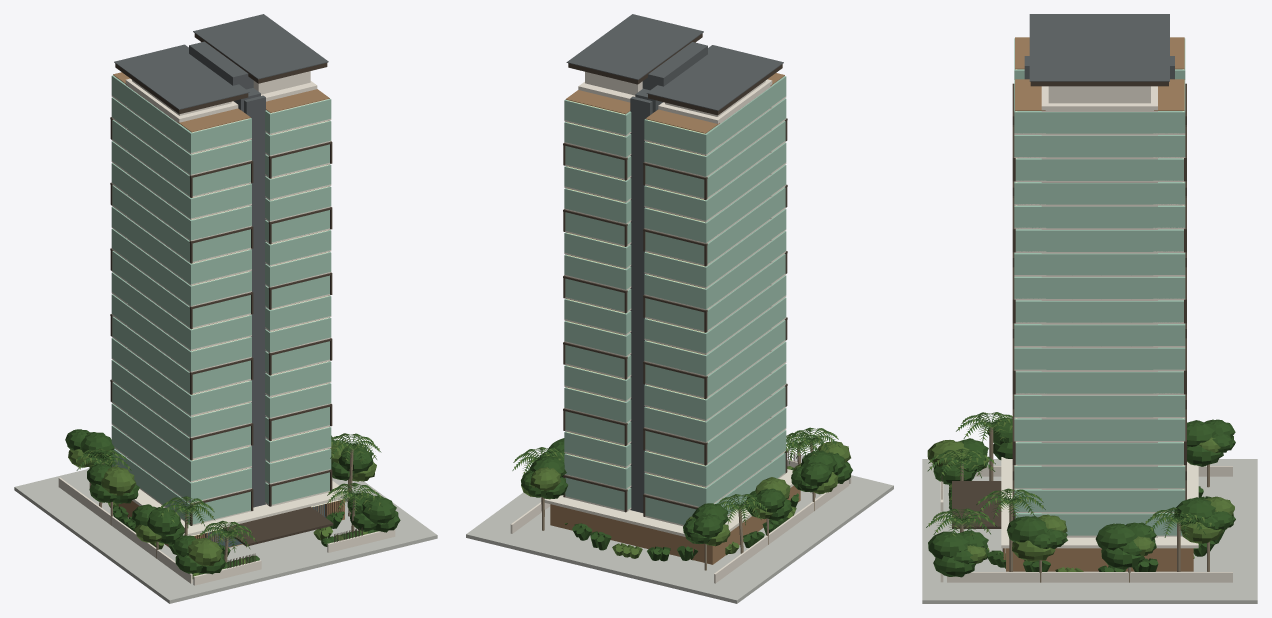
The model's file is xixova-building.glb.
3 views of the same model, side by side, from view 1: azimuth 30°, elevation 25°; view 2: azimuth 150°, elevation 25°; view 3: azimuth 270°, elevation 25° (orthographic). The views are drawn at different scales.
Visible parts, largest first — view 1: PODIUM_ground, ROOFTOP_graphite, LANDSCAPE_leaf, FACADE_SHARED_graphite, FACADE_SHARED_slab, LANDSCAPE_leaf_light, FACADE_SHARED_bronze, FACADE_SHARED_ivory, ENTRANCE_ivory, ENTRANCE_bronze, UNIT_1403_PROXY, UNIT_603_PROXY (+59 smaller); view 2: PODIUM_ground, ROOFTOP_graphite, LANDSCAPE_leaf, FACADE_SHARED_graphite, FACADE_SHARED_slab, FACADE_SHARED_bronze, PODIUM_wood, LANDSCAPE_leaf_light, FACADE_SHARED_ivory, FACADE_SHARED_wood, UNIT_1701_PROXY, UNIT_601_PROXY (+58 smaller); view 3: PODIUM_ground, LANDSCAPE_leaf, ROOFTOP_graphite, FACADE_SHARED_ivory, LANDSCAPE_leaf_light, ENTRANCE_ivory, FACADE_SHARED_wood, PODIUM_wood, FACADE_SHARED_bronze, FACADE_SHARED_slab, UNIT_302_PROXY, PODIUM_slab (+40 smaller).
Part boxes in pixels (bbox=[...]): PODIUM_ground: bbox=[14, 469, 437, 603]; ROOFTOP_graphite: bbox=[114, 14, 328, 109]; LANDSCAPE_leaf: bbox=[65, 429, 400, 574]; FACADE_SHARED_graphite: bbox=[233, 88, 265, 507]; FACADE_SHARED_slab: bbox=[111, 95, 331, 525]; LANDSCAPE_leaf_light: bbox=[68, 433, 381, 578]; FACADE_SHARED_bronze: bbox=[110, 117, 332, 525]; FACADE_SHARED_ivory: bbox=[125, 78, 317, 507]; ENTRANCE_ivory: bbox=[58, 477, 395, 585]; ENTRANCE_bronze: bbox=[205, 503, 362, 568]; UNIT_1403_PROXY: bbox=[149, 191, 251, 240]; UNIT_603_PROXY: bbox=[149, 365, 251, 415]; PODIUM_ground: bbox=[466, 475, 893, 603]; ROOFTOP_graphite: bbox=[566, 14, 783, 110]; LANDSCAPE_leaf: bbox=[512, 427, 852, 561]; FACADE_SHARED_graphite: bbox=[630, 88, 662, 512]; FACADE_SHARED_slab: bbox=[564, 96, 786, 526]; FACADE_SHARED_bronze: bbox=[563, 118, 787, 516]; PODIUM_wood: bbox=[550, 485, 800, 564]; LANDSCAPE_leaf_light: bbox=[514, 428, 850, 558]; FACADE_SHARED_ivory: bbox=[578, 79, 772, 516]; FACADE_SHARED_wood: bbox=[565, 73, 784, 487]; UNIT_1701_PROXY: bbox=[644, 126, 747, 176]; UNIT_601_PROXY: bbox=[644, 369, 747, 419]; PODIUM_ground: bbox=[922, 459, 1257, 603]; LANDSCAPE_leaf: bbox=[926, 412, 1235, 577]; ROOFTOP_graphite: bbox=[1029, 14, 1169, 81]; FACADE_SHARED_ivory: bbox=[1041, 86, 1157, 537]; LANDSCAPE_leaf_light: bbox=[927, 413, 1234, 571]; ENTRANCE_ivory: bbox=[940, 466, 1232, 582]; FACADE_SHARED_wood: bbox=[1015, 37, 1184, 110]; PODIUM_wood: bbox=[1006, 548, 1193, 571]; FACADE_SHARED_bronze: bbox=[1012, 83, 1186, 519]; FACADE_SHARED_slab: bbox=[1014, 133, 1185, 536]; UNIT_302_PROXY: bbox=[1095, 465, 1185, 488]; PODIUM_slab: bbox=[1001, 457, 1198, 548].
Size of the model in its own units: 40 by 64.94 by 40.12.
